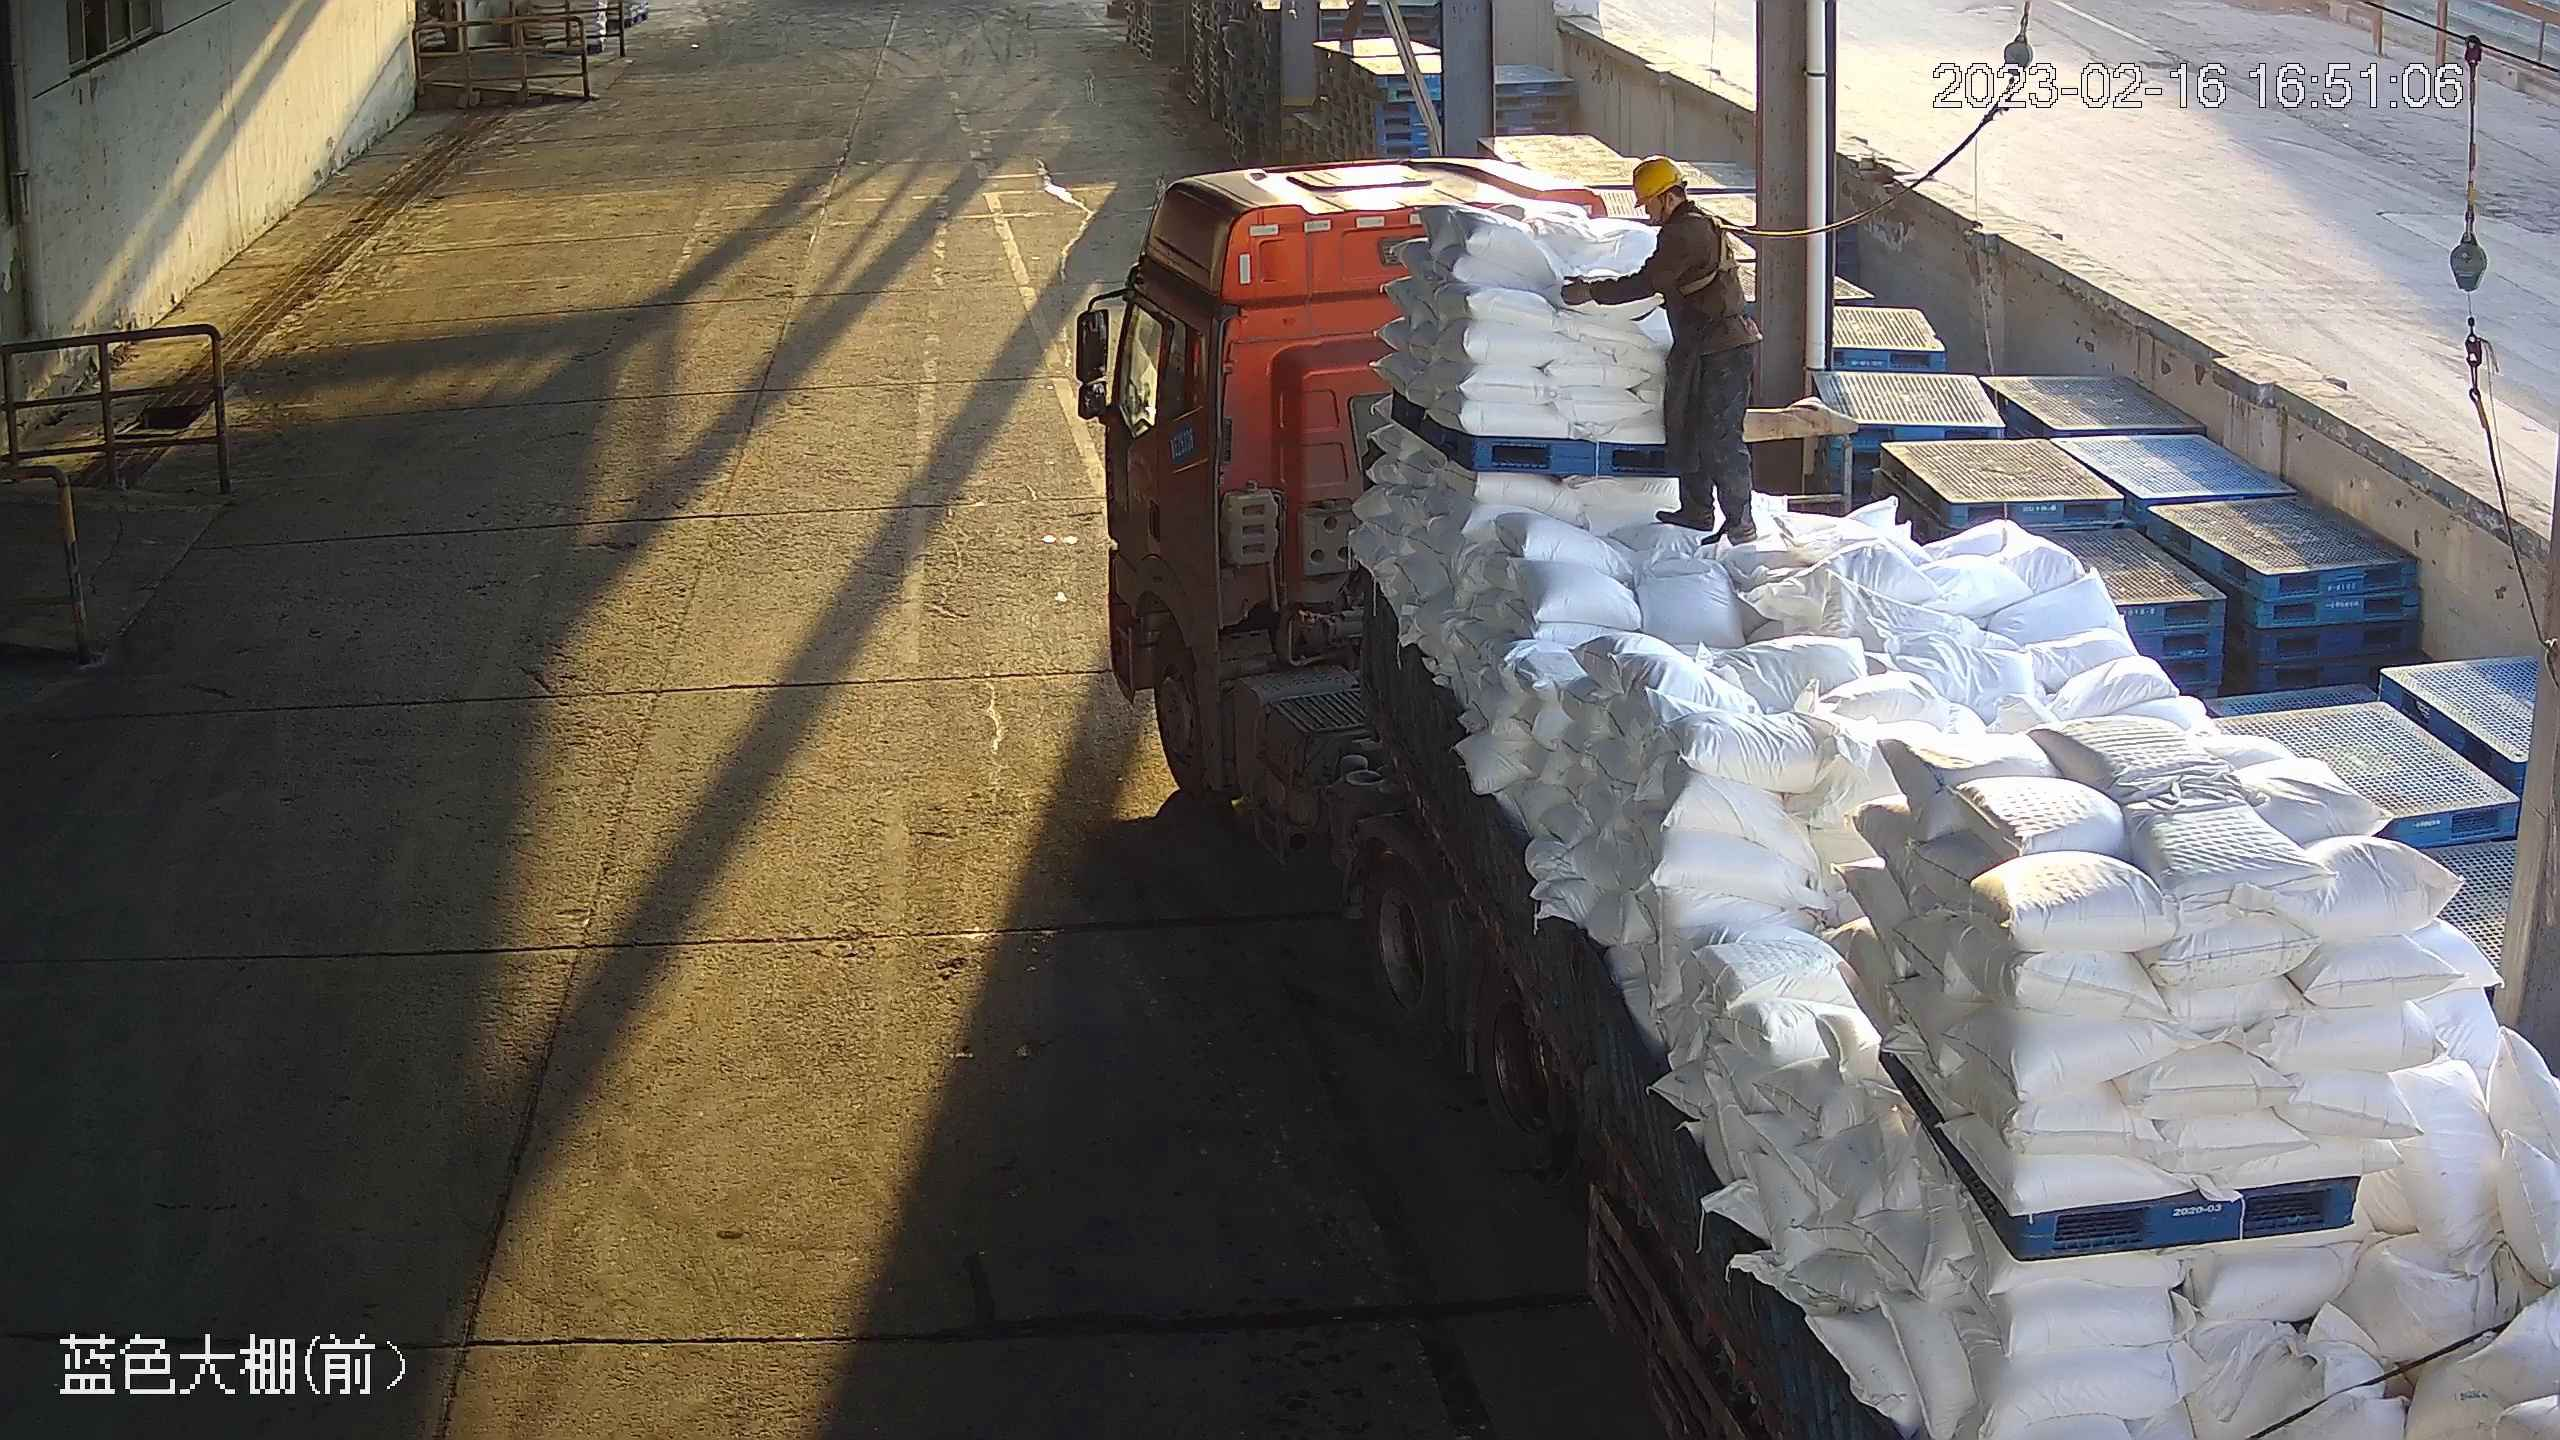belt: (1678, 206, 1740, 294)
head: (1631, 156, 1729, 259)
helmet: (1631, 156, 1687, 208)
people: (1557, 156, 1762, 544)
truck: (1074, 157, 2560, 1440)
